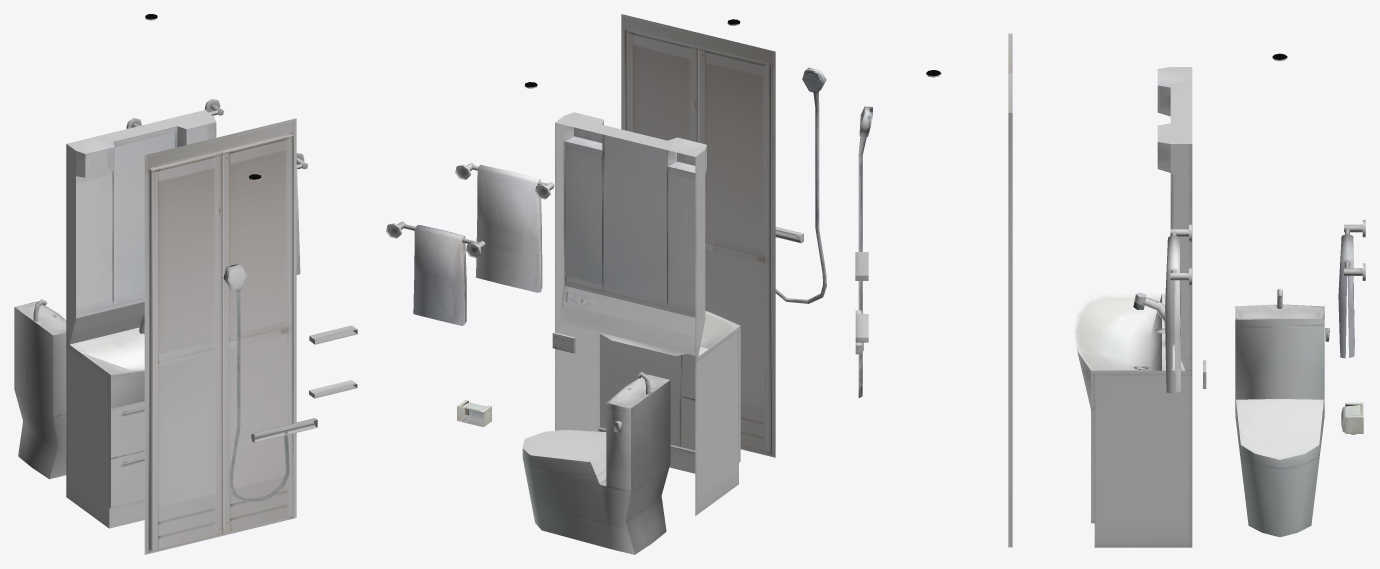
The model's file is bathroom-objects.fbx.
3 views of the same model, side by side, from view 1: azimuth 30°, elevation 25°; view 2: azimuth 150°, elevation 25°; view 3: azimuth 270°, elevation 25° (orthographic). The views are drawn at different scales.
Visible parts, largest first — view 1: sink, shower-door.001, shower-door, toilet, shower-frame, shower-head, shower.parts; view 2: sink, shower-door.001, toilet, towel, shower-door, shower-frame, towel.001, shower-head, toilet paper, towel rack.001; view 3: sink, toilet, shower-door, towel, towel.001, shower-head, shower.parts, toilet paper.
Part boxes in pixels (x1,y1,x2,y2): sink: (66,110,216,528); shower-door.001: (149,151,222,550); shower-door: (221,134,293,533); toilet: (14,299,66,479); shower-frame: (144,118,296,554); shower-head: (223,264,289,502); shower.parts: (251,325,357,442); sink: (555,112,740,515); shower-door.001: (698,48,770,452); toilet: (522,372,670,554); towel: (476,164,542,292); shower-door: (626,30,698,142); shower-frame: (621,14,775,457); towel.001: (413,225,466,325); shower-head: (775,67,826,303); toilet paper: (457,400,491,427); towel rack.001: (386,221,485,257); sink: (1074,67,1192,547); toilet: (1235,289,1329,537); shower-door: (1008,73,1012,547); towel: (1164,234,1181,393); towel.001: (1338,233,1354,358); shower-head: (858,106,872,398); shower.parts: (855,252,868,354); toilet paper: (1341,402,1363,434).
Size of the model in its own units: 128 by 218 by 209.
